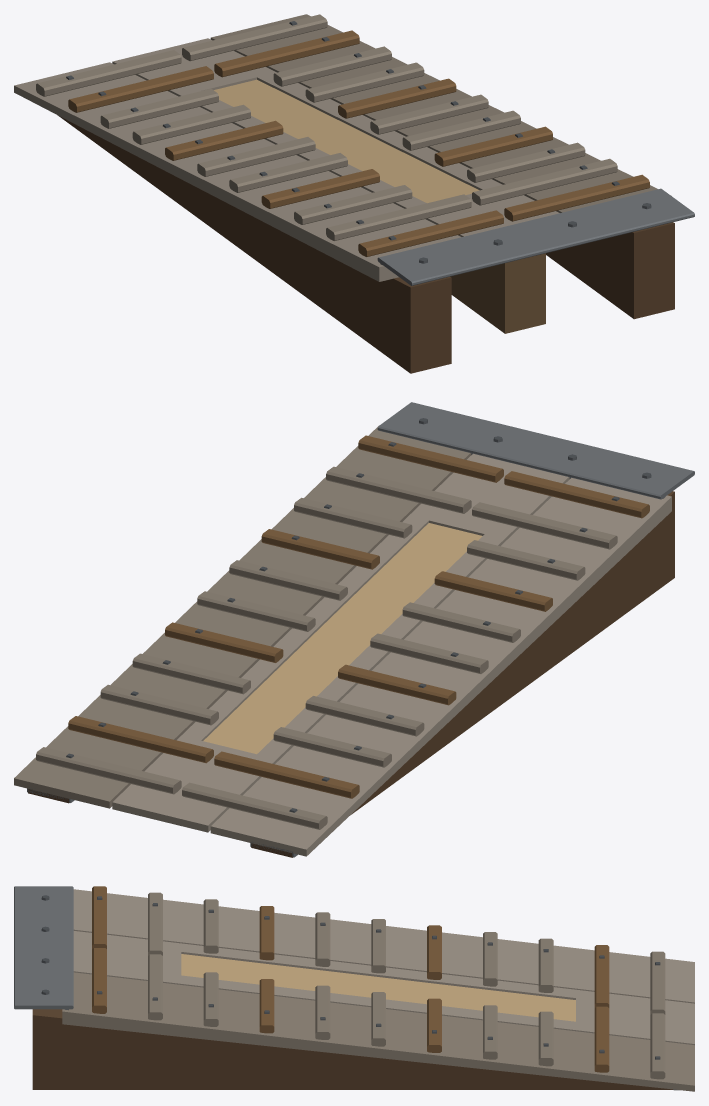
File: SM_LPD_Furn_RampRamp_01.fbx
The picture shows the model from 3 angles, top to bottom: view 1: azimuth 30°, elevation 25°; view 2: azimuth 150°, elevation 25°; view 3: azimuth 270°, elevation 25°; orthographic projection. The views are drawn at different scales.
Visible parts, largest first — view 1: SM_LPD_Furn_RampRamp_01; view 2: SM_LPD_Furn_RampRamp_01; view 3: SM_LPD_Furn_RampRamp_01.
Part boxes in pixels (<box>): SM_LPD_Furn_RampRamp_01: <box>14,14,694,373</box>; SM_LPD_Furn_RampRamp_01: <box>14,402,694,857</box>; SM_LPD_Furn_RampRamp_01: <box>14,886,694,1091</box>.
Bounding box in the file's own units: 0.786 × 0.267 × 1.83.
